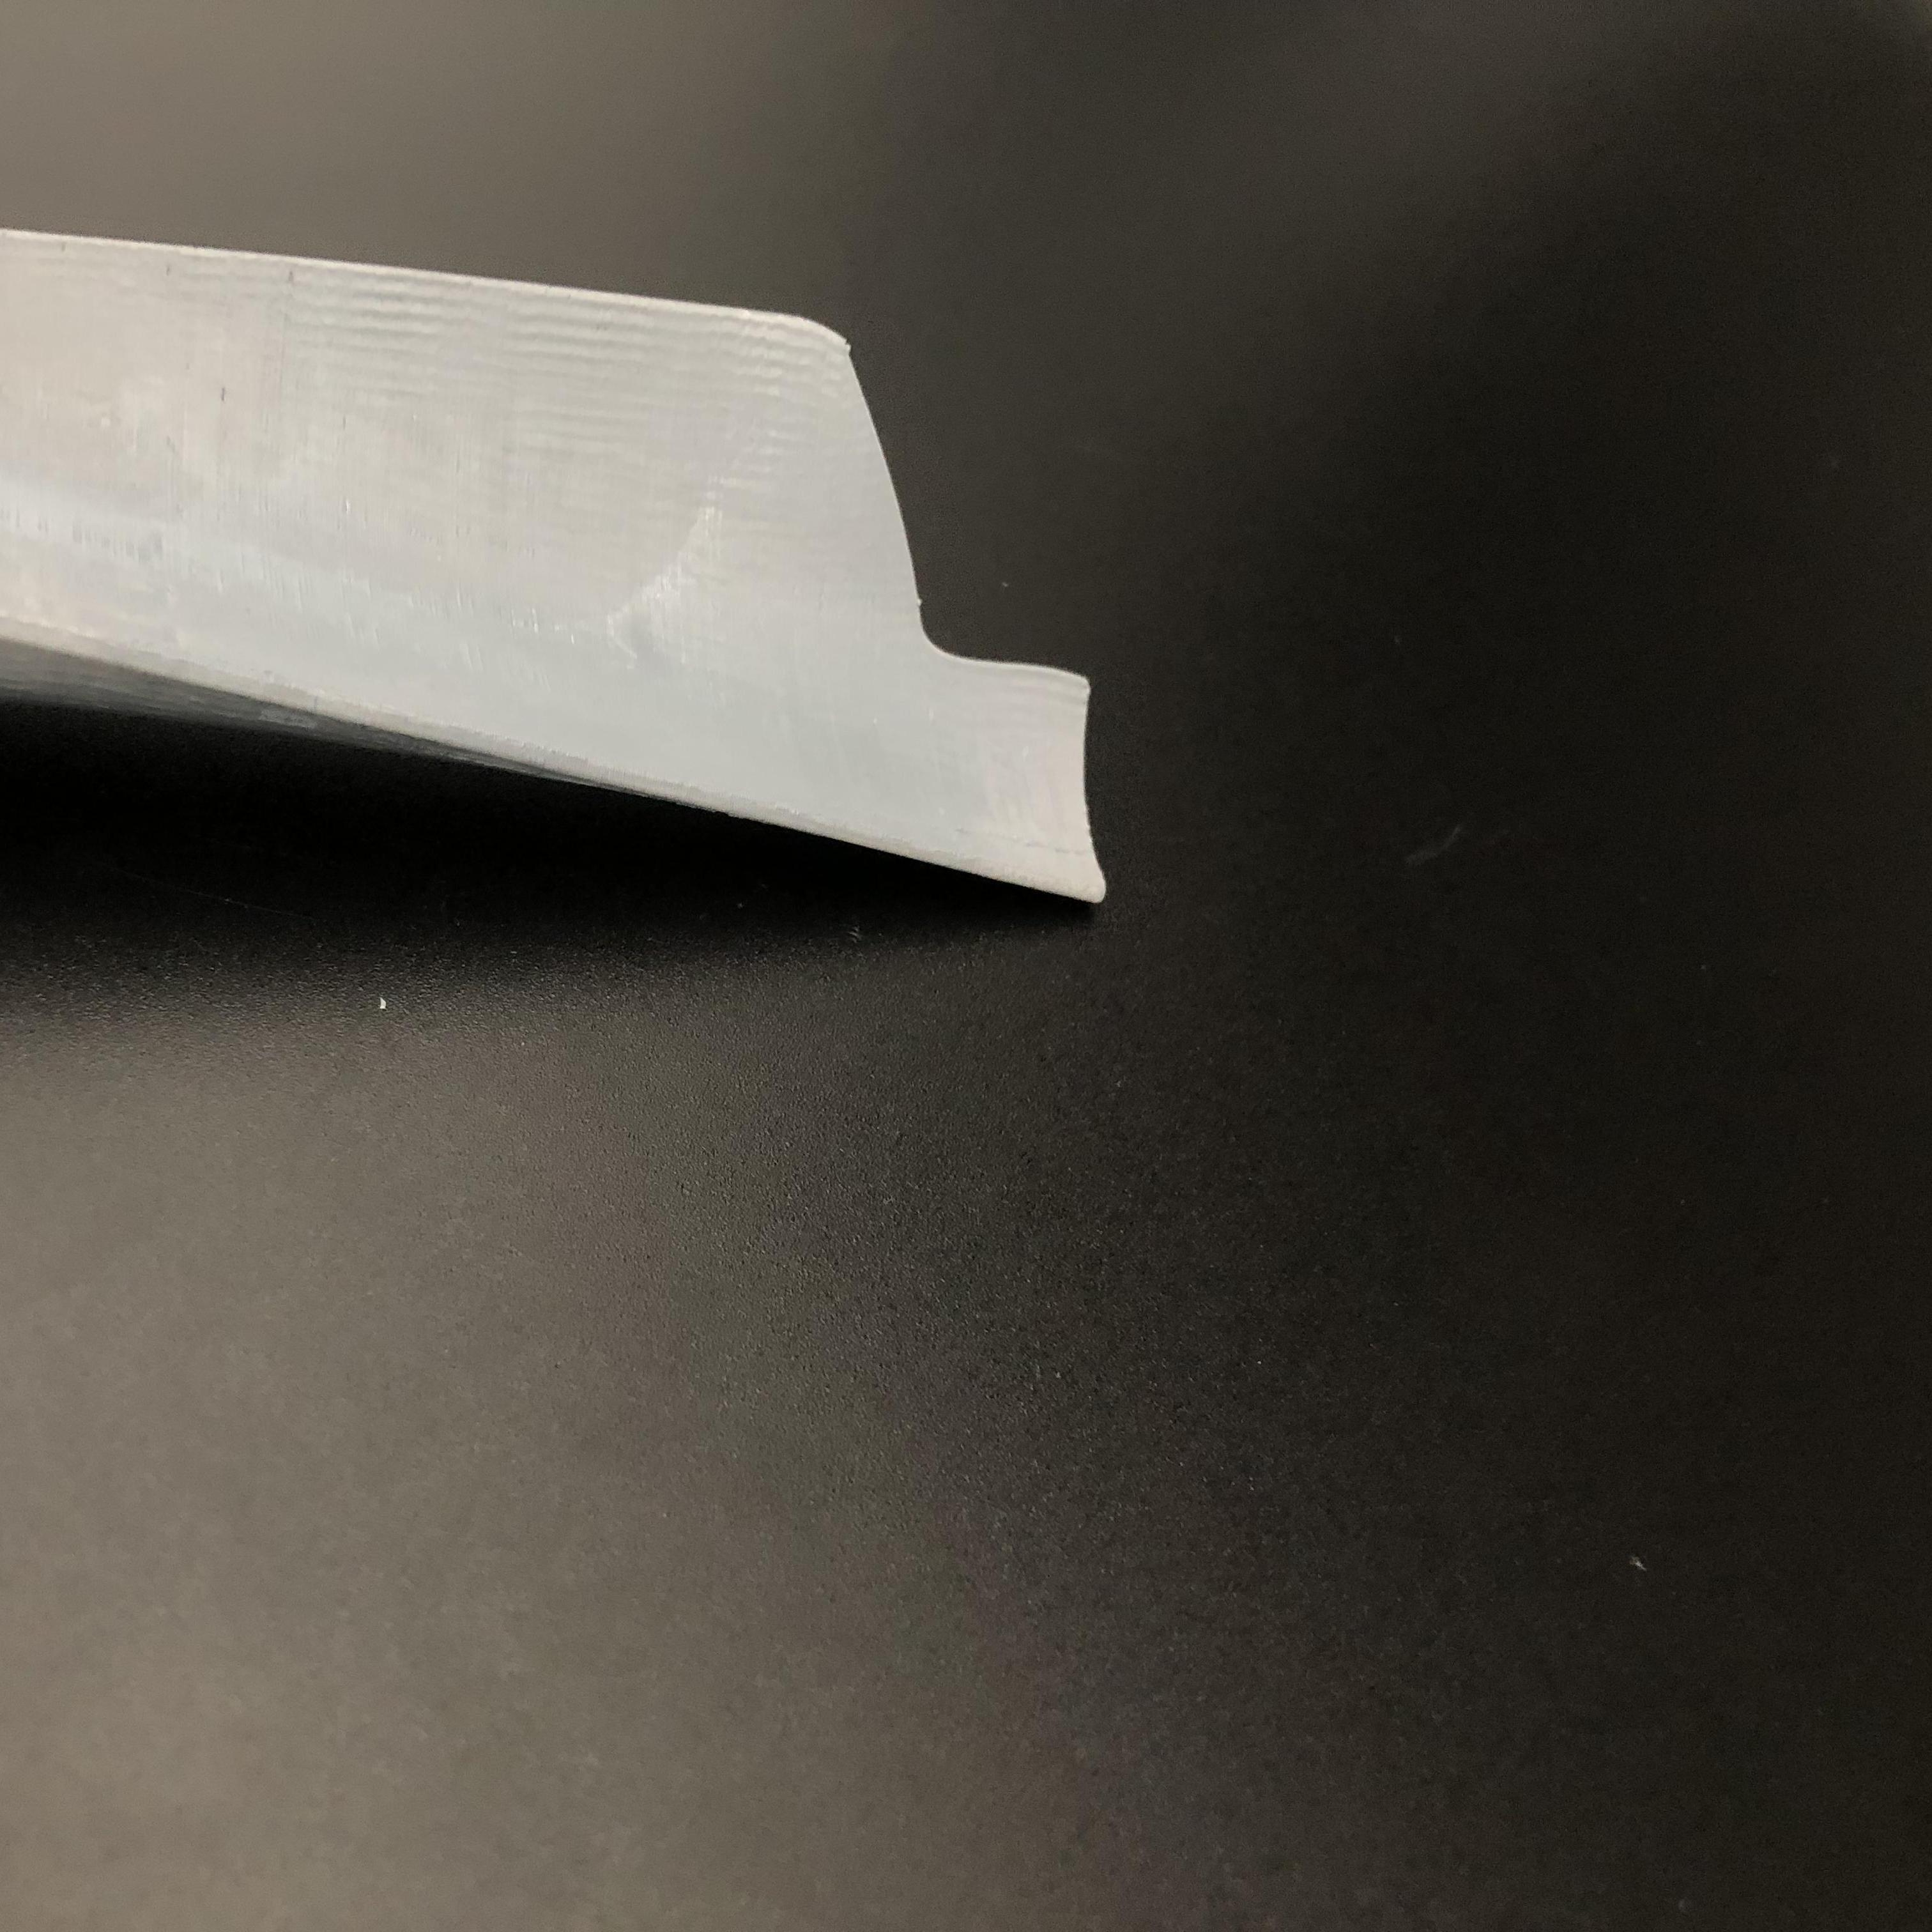fracture: (819, 343, 1093, 708)
